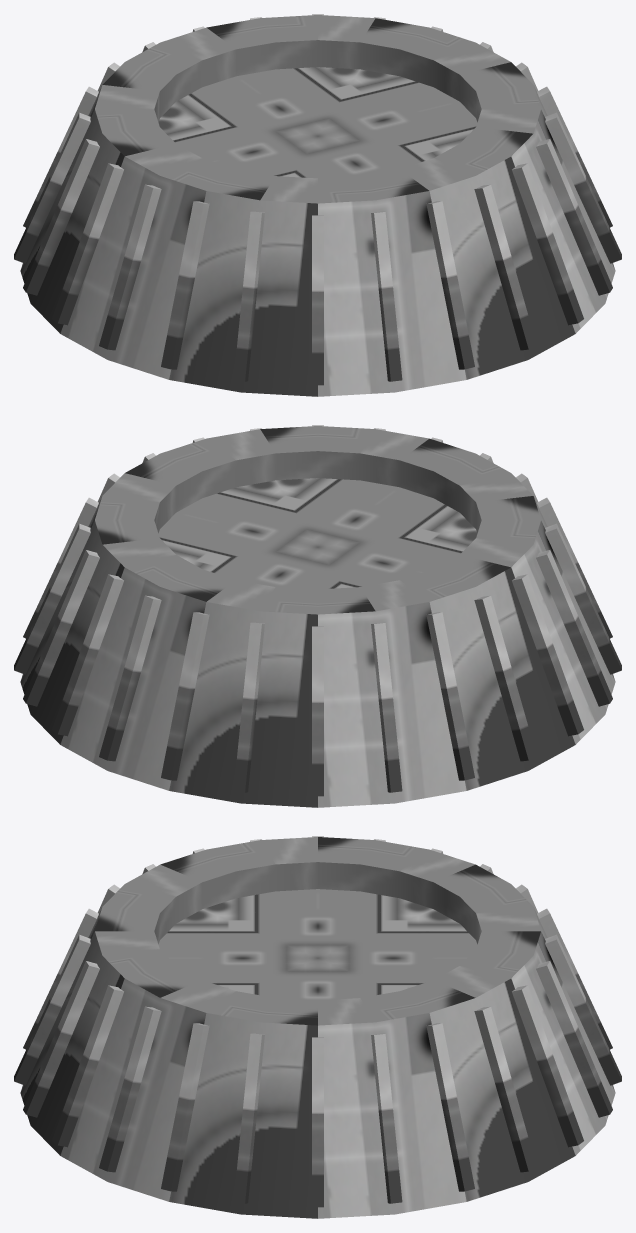
Rendered from libra_fuel_tank_s1_s0p5_1.obj.
The picture shows the model from 3 angles, top to bottom: view 1: azimuth 30°, elevation 25°; view 2: azimuth 150°, elevation 25°; view 3: azimuth 270°, elevation 25°; orthographic projection.
Visible parts, largest first — view 1: libra_fuel_tank_s1_s0p5_1; view 2: libra_fuel_tank_s1_s0p5_1; view 3: libra_fuel_tank_s1_s0p5_1.
Boxes of the visible parts, x1,y1,x2,y2 form: libra_fuel_tank_s1_s0p5_1: (14,14,621,396); libra_fuel_tank_s1_s0p5_1: (14,425,621,807); libra_fuel_tank_s1_s0p5_1: (14,836,621,1218).
Size of the model in its own units: 1.28 by 0.375 by 1.28.
